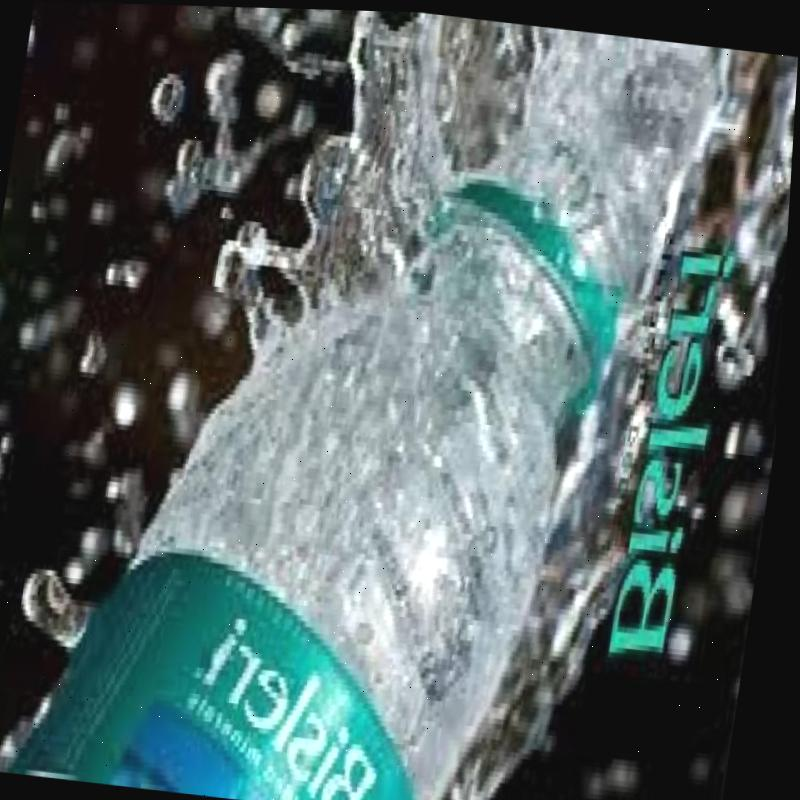botella: (10, 132, 644, 800)
